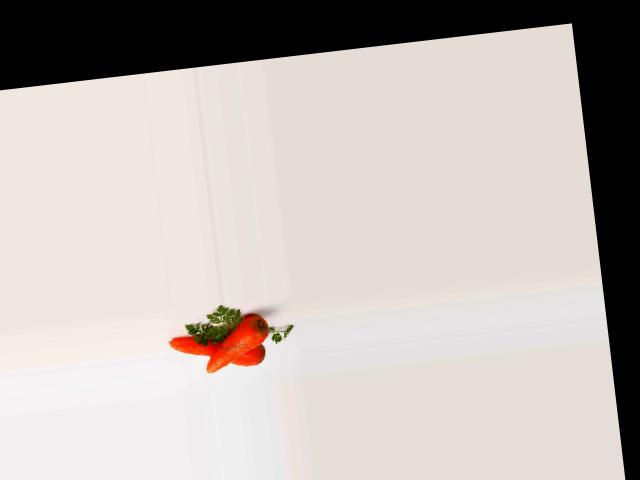carrot: (167, 327, 268, 375)
